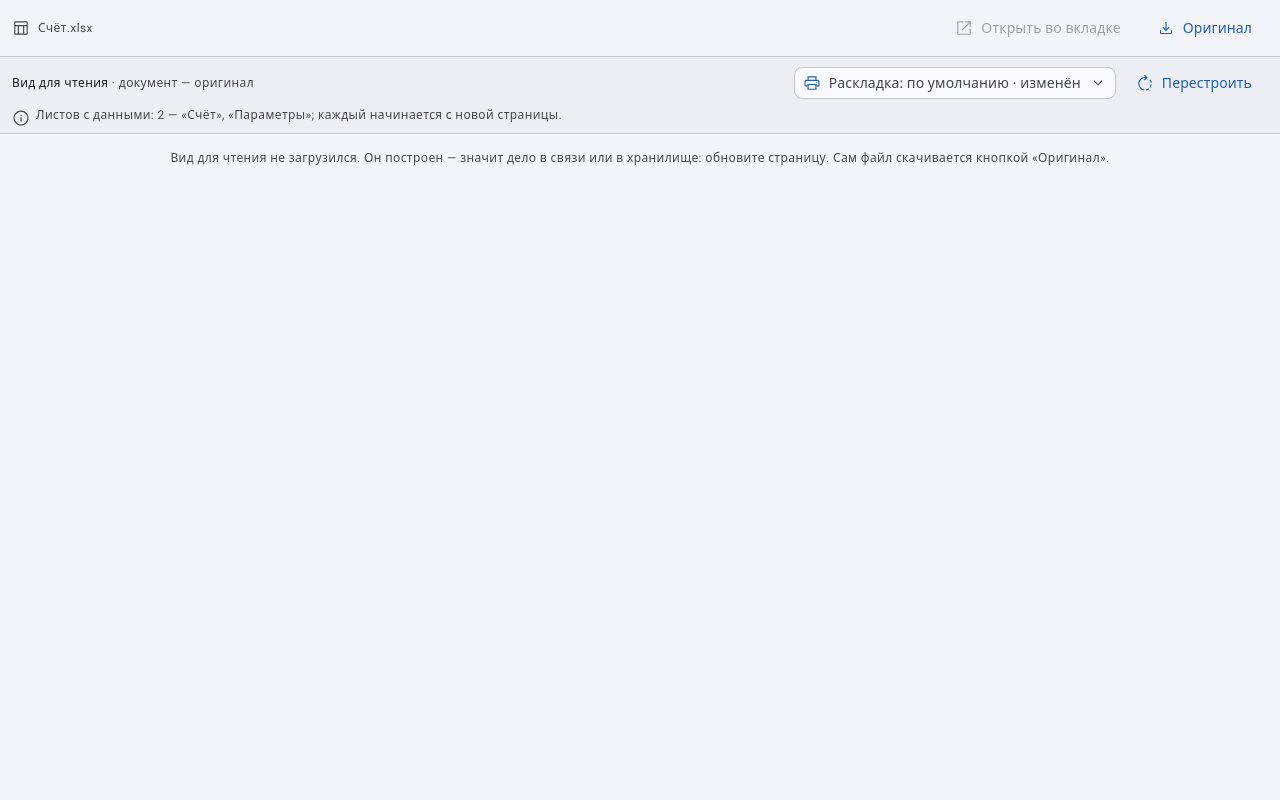
Test case: вид для чтения: профиль печати › тому, кто может перестроить, — «изменён» в чипе, его подсказке и окне; выбор перестраивает по выбранному
Expected: the list item "Листов с данными: 2 — «Счёт», «Параметры»; каждый начинается с новой страницы." is shown, left=12, top=108, right=562, bottom=127
Click the button with test id "layout-chip". click: (955, 83)
box: left=794, top=67, right=1116, bottom=99
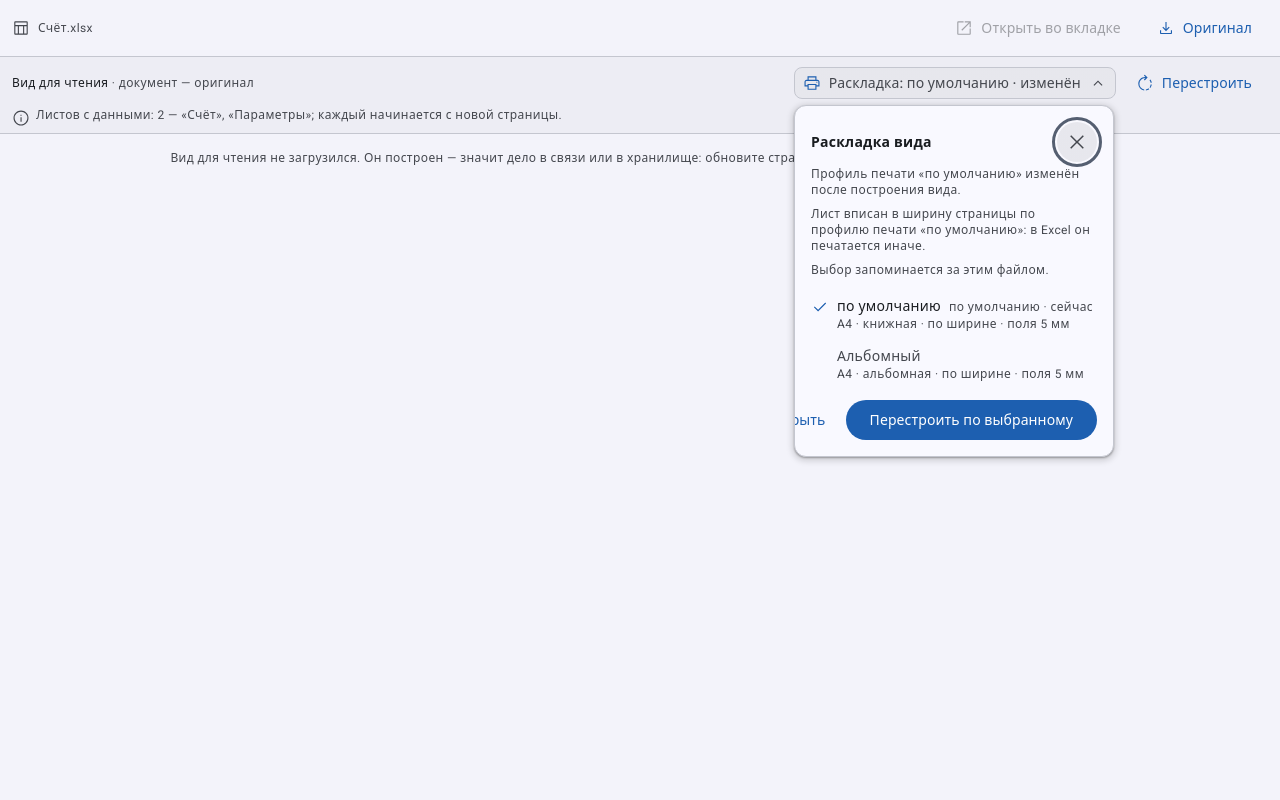
Now the text with test id "layout-notice" shows "изменён после построения вида", box left=811, top=167, right=1080, bottom=197
Now the text with test id "layout-note" shows "Лист вписан в ширину страницы по профилю печати «по умолчанию»: в Excel он печатается иначе.", box left=811, top=207, right=1090, bottom=253
Now the radio button labelled "по умолчанию" shows "сейчас", box left=803, top=290, right=1105, bottom=338
Click the radio button labelled "Альбомный A4 · альбомная · по ширине · поля 5 мм". click: (954, 364)
box: left=803, top=340, right=1105, bottom=388
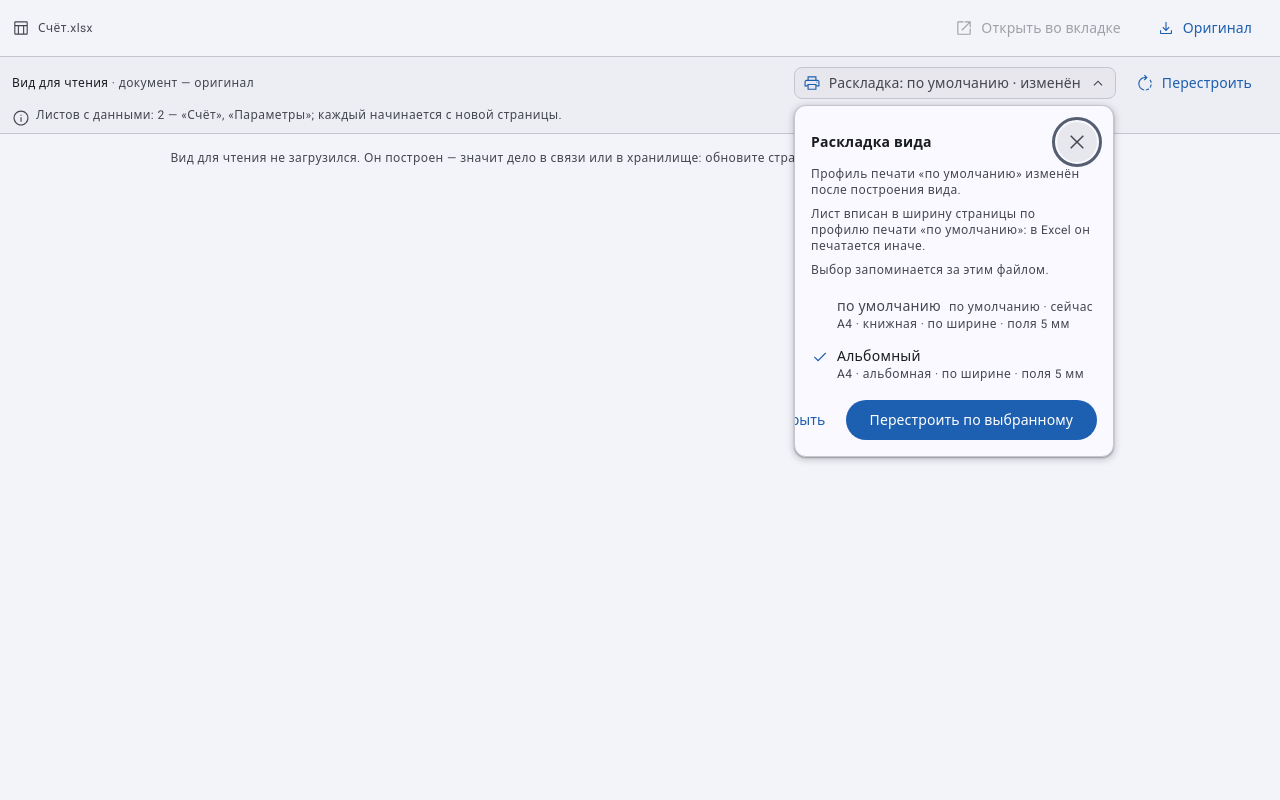
Click the button "Перестроить по выбранному". click: (971, 420)
box: left=846, top=400, right=1097, bottom=440
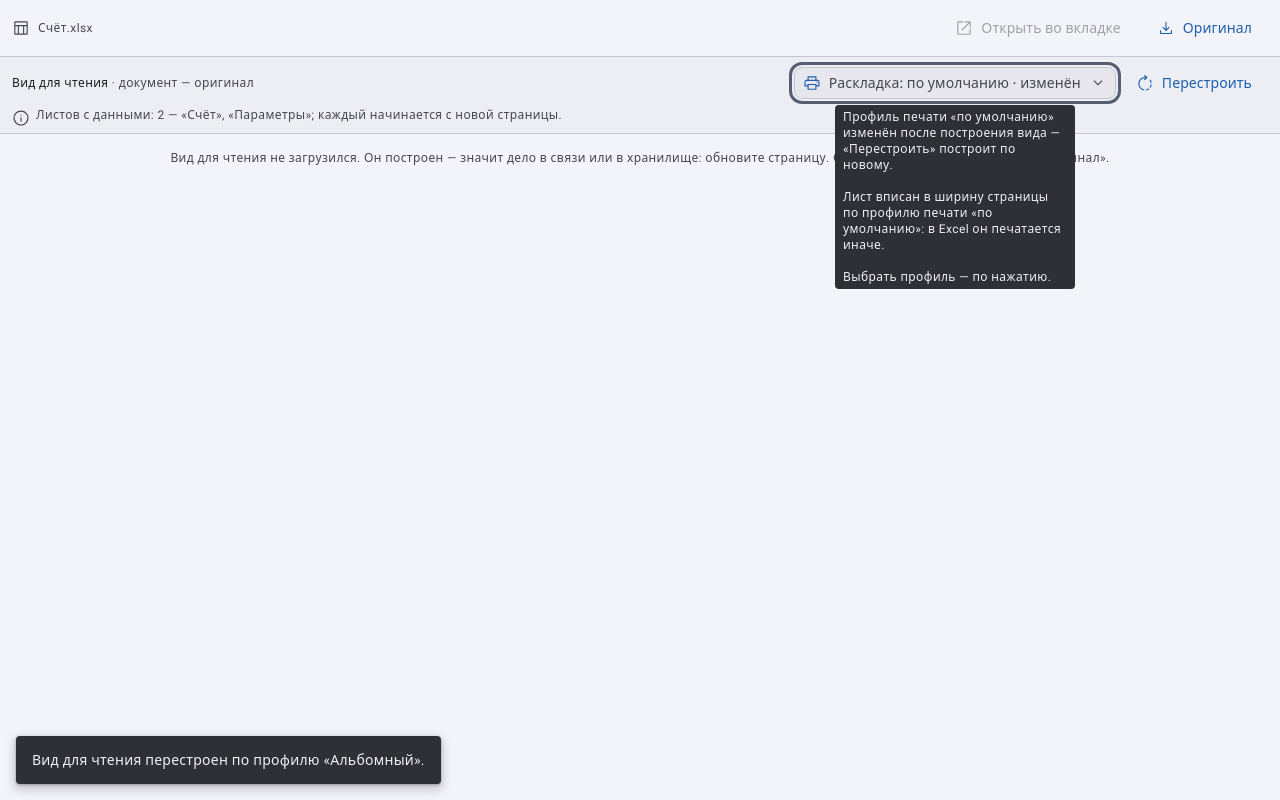
Now the text "Вид для чтения перестроен по профилю «Альбомный»." is shown, box left=32, top=752, right=425, bottom=768
